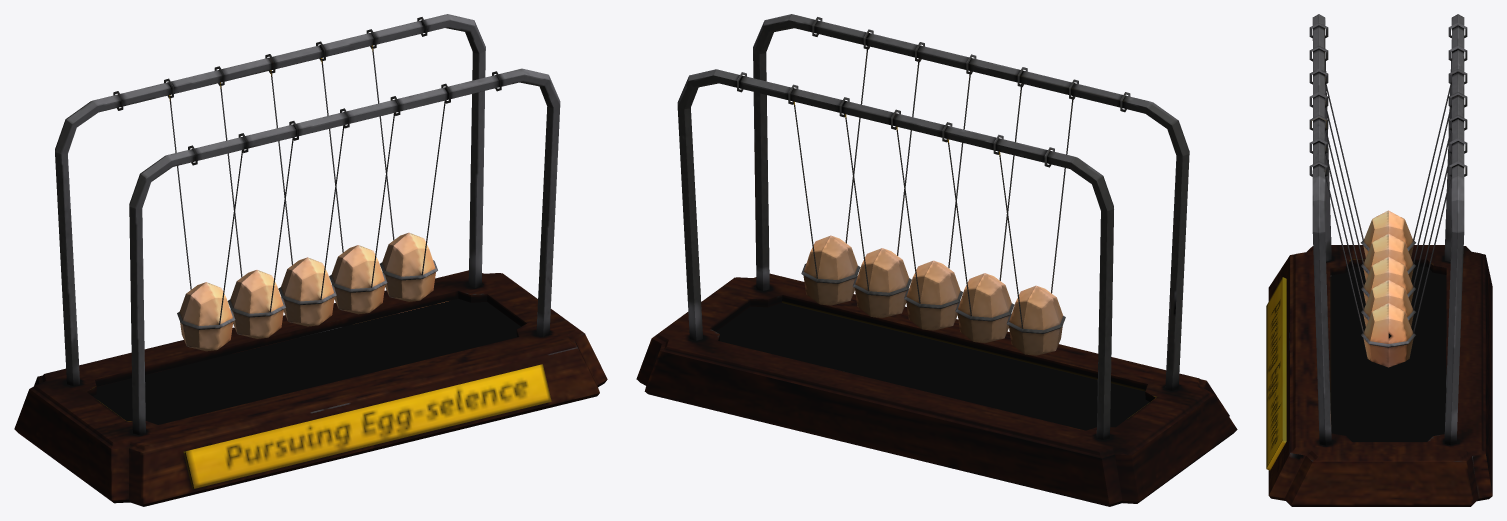
Rendered from SM_PRP_EggPendulum.fbx.
3 views of the same model, side by side, from view 1: azimuth 30°, elevation 25°; view 2: azimuth 150°, elevation 25°; view 3: azimuth 270°, elevation 25° (orthographic). The views are drawn at different scales.
Visible parts, largest first — view 1: PRP_EggPendulum; view 2: PRP_EggPendulum; view 3: PRP_EggPendulum.
Boxes of the visible parts, x1,y1,x2,y2 form: PRP_EggPendulum: (14, 14, 607, 506); PRP_EggPendulum: (636, 14, 1237, 506); PRP_EggPendulum: (1266, 14, 1492, 506).
Size of the model in its own units: 33.11 by 20.7 by 14.
